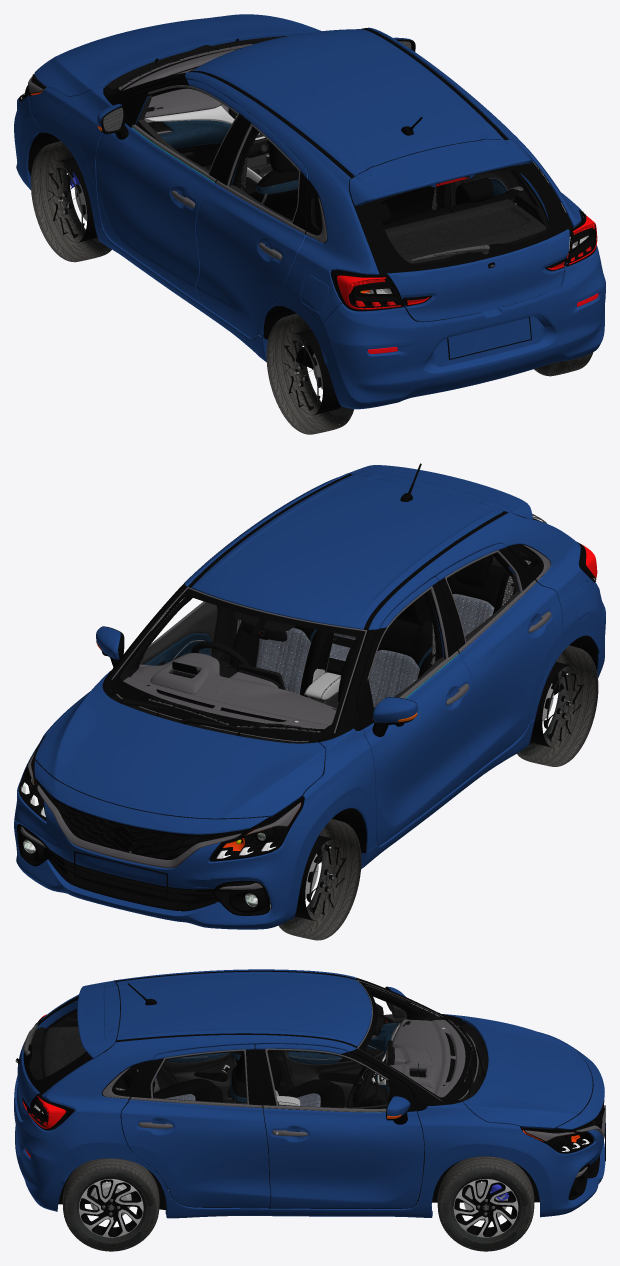
File: 19-baleno.glb
The picture shows the model from 3 angles, top to bottom: view 1: azimuth 30°, elevation 25°; view 2: azimuth 150°, elevation 25°; view 3: azimuth 270°, elevation 25°; orthographic projection. The views are drawn at different scales.
Parts seen in each view (by area): view 1: Object_11, Object_15, Object_320, Object_43, Object_13, Object_9, Object_59, Object_5, Object_41, Object_318, Object_85, Object_67 (+2 smaller); view 2: Object_11, Object_15, Object_13, Object_320, Object_9, Object_63, Object_41, Object_37, Object_5, Object_318, Object_59, Object_103; view 3: Object_11, Object_15, Object_13, Object_318, Object_9, Object_320, Object_41, Object_85, Object_5, Object_59, Object_43, Object_37 (+1 smaller).
Boxes of the visible parts, x1=… form: Object_11: x1=14, y1=14, x2=605, y2=409; Object_15: x1=18, y1=28, x2=596, y2=415; Object_320: x1=30, y1=141, x2=593, y2=434; Object_43: x1=203, y1=152, x2=546, y2=263; Object_13: x1=28, y1=44, x2=549, y2=385; Object_9: x1=107, y1=35, x2=548, y2=264; Object_59: x1=159, y1=120, x2=507, y2=195; Object_5: x1=66, y1=127, x2=597, y2=389; Object_41: x1=138, y1=95, x2=517, y2=222; Object_318: x1=60, y1=149, x2=559, y2=424; Object_85: x1=60, y1=105, x2=305, y2=375; Object_67: x1=103, y1=41, x2=523, y2=209; Object_11: x1=14, y1=465, x2=605, y2=929; Object_15: x1=17, y1=463, x2=598, y2=920; Object_13: x1=20, y1=545, x2=571, y2=891; Object_320: x1=278, y1=645, x2=598, y2=940; Object_9: x1=60, y1=551, x2=531, y2=903; Object_63: x1=255, y1=593, x2=494, y2=707; Object_41: x1=134, y1=573, x2=520, y2=709; Object_37: x1=120, y1=550, x2=539, y2=728; Object_5: x1=23, y1=514, x2=597, y2=906; Object_318: x1=279, y1=655, x2=568, y2=930; Object_59: x1=144, y1=629, x2=432, y2=668; Object_103: x1=21, y1=641, x2=417, y2=907; Object_11: x1=14, y1=969, x2=605, y2=1218; Object_15: x1=22, y1=970, x2=605, y2=1236; Object_13: x1=102, y1=979, x2=605, y2=1215; Object_318: x1=66, y1=1168, x2=531, y2=1250; Object_9: x1=29, y1=1003, x2=599, y2=1126; Object_320: x1=62, y1=1156, x2=534, y2=1251; Object_41: x1=153, y1=1003, x2=426, y2=1108; Object_85: x1=79, y1=1025, x2=518, y2=1237; Object_5: x1=15, y1=1014, x2=571, y2=1220; Object_59: x1=166, y1=1022, x2=400, y2=1102; Object_43: x1=41, y1=1026, x2=121, y2=1117; Object_37: x1=67, y1=985, x2=444, y2=1107.
Bounding box in the file's own units: 1.86 × 1.54 × 3.79.
22 materials, 13 textured.
